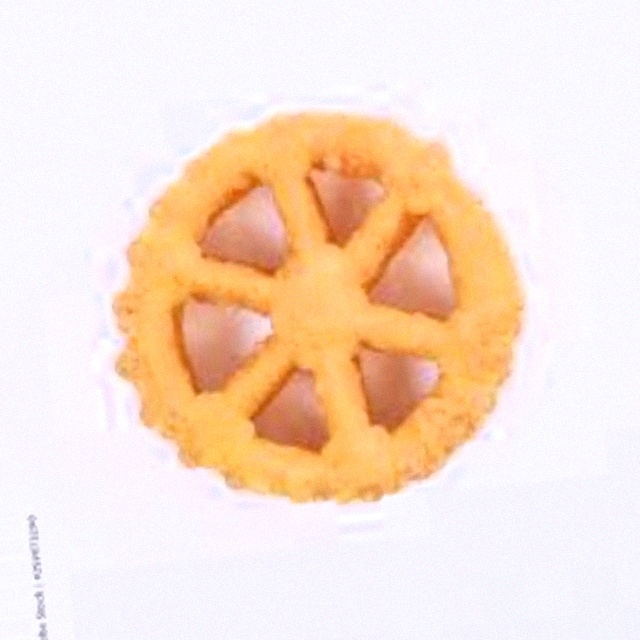Kokis: (107, 124, 533, 516)
